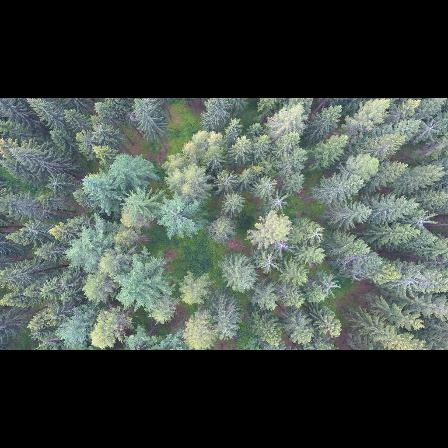Sick: (418, 112, 444, 143), (264, 189, 294, 213), (44, 172, 74, 192), (412, 208, 435, 232), (271, 233, 292, 256)
